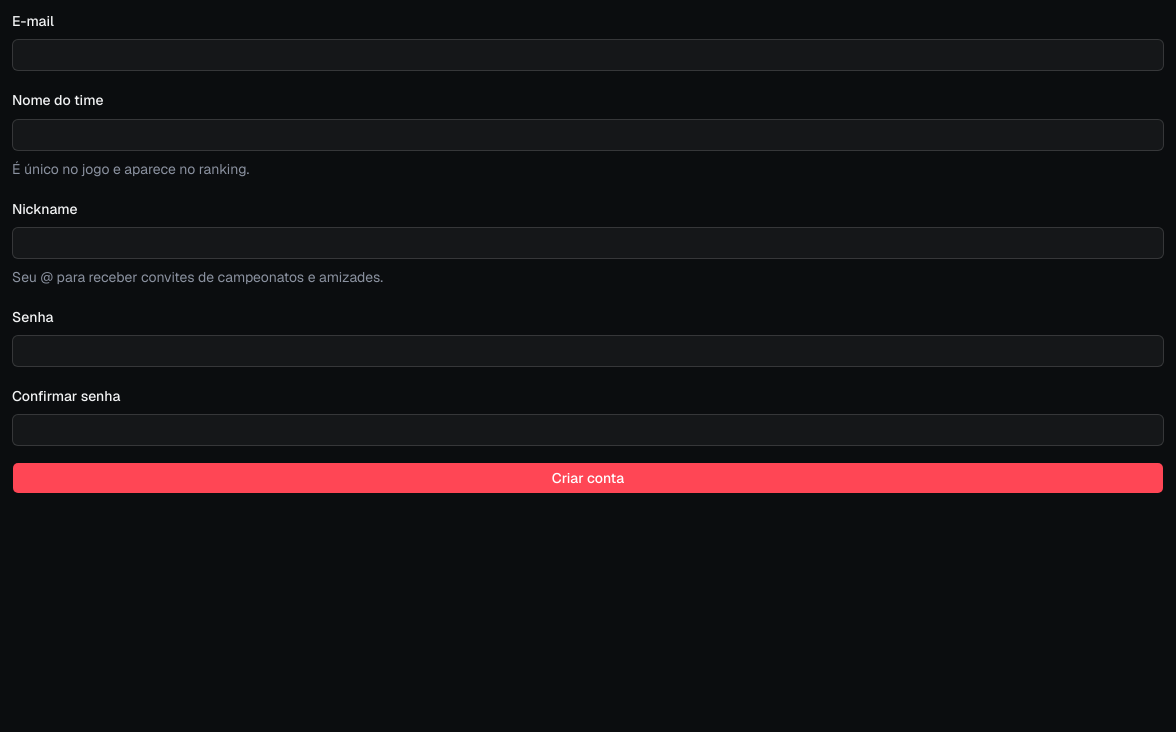
it: SignUpForm › mostra mensagens de validação pt-BR ao submeter vazio
Click the button "Criar conta" at (588, 478), box [12, 462, 1164, 494]
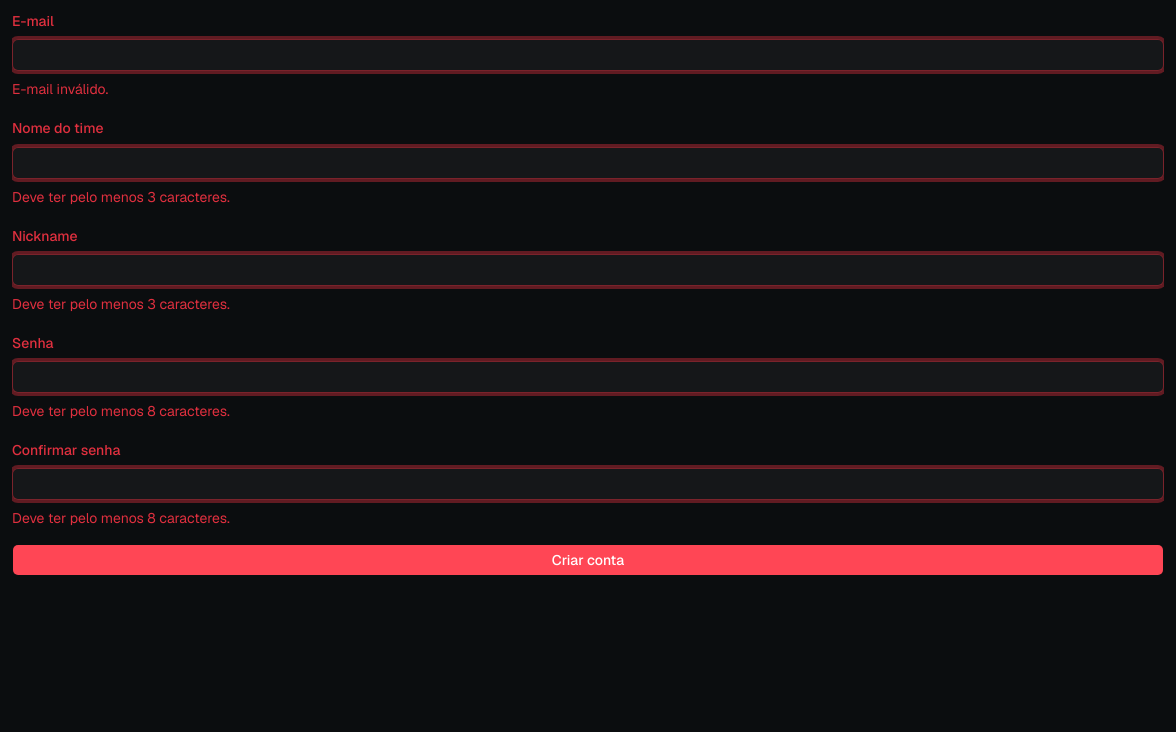
Result: the text "E-mail inválido." is shown at [12, 80, 108, 98]
Result: the text "Deve ter pelo menos 3 caracteres." is shown 2 times at [12, 188, 230, 206]; [12, 295, 230, 313]
Result: the 1st text "Deve ter pelo menos 8 caracteres." is shown at [12, 402, 230, 420]
